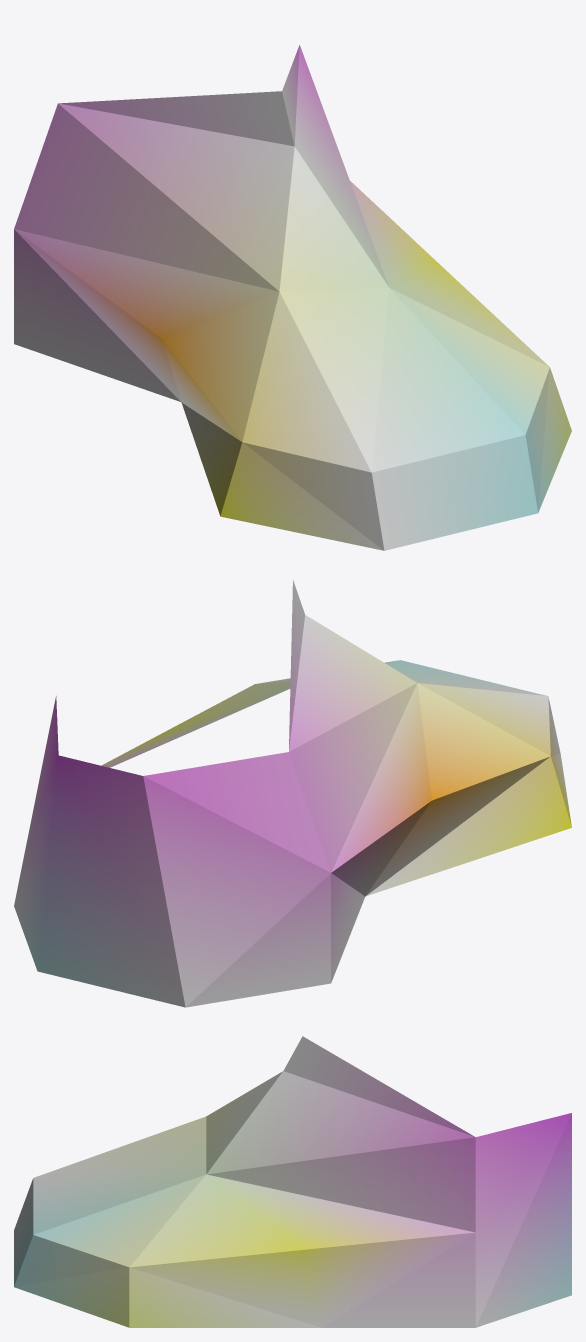
3 views of the same model, one above another, from view 1: azimuth 30°, elevation 25°; view 2: azimuth 150°, elevation 25°; view 3: azimuth 270°, elevation 25° (orthographic). The views are drawn at different scales.
Visible parts, largest first — view 1: model_113D; view 2: model_113D; view 3: model_113D.
Boxes of the visible parts, x1,y1,x2,y2 form: model_113D: (14, 45, 571, 550); model_113D: (14, 580, 571, 1007); model_113D: (14, 1036, 571, 1327).
Size of the model in its own units: 16 by 13 by 29.
